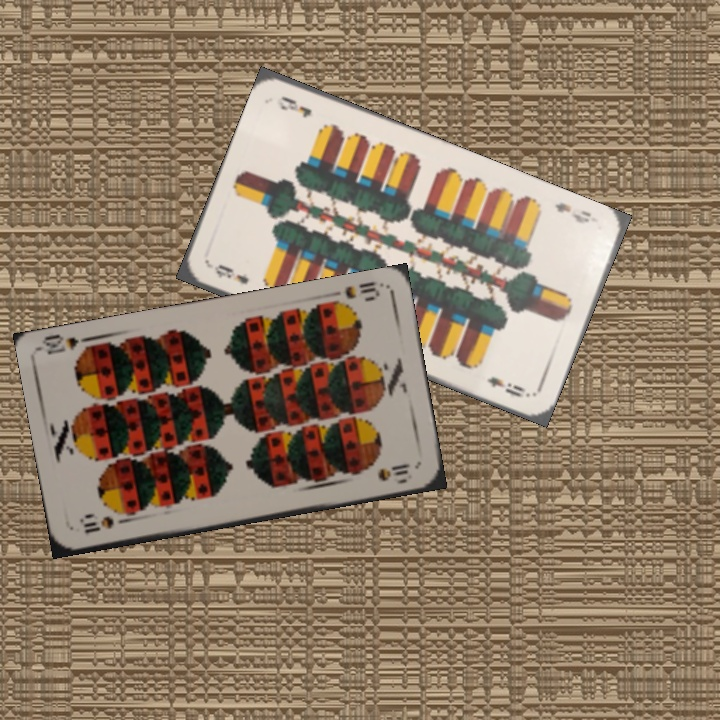E9: (550, 198, 594, 226), (210, 260, 251, 287)
S10: (76, 512, 132, 536), (341, 277, 383, 304)
